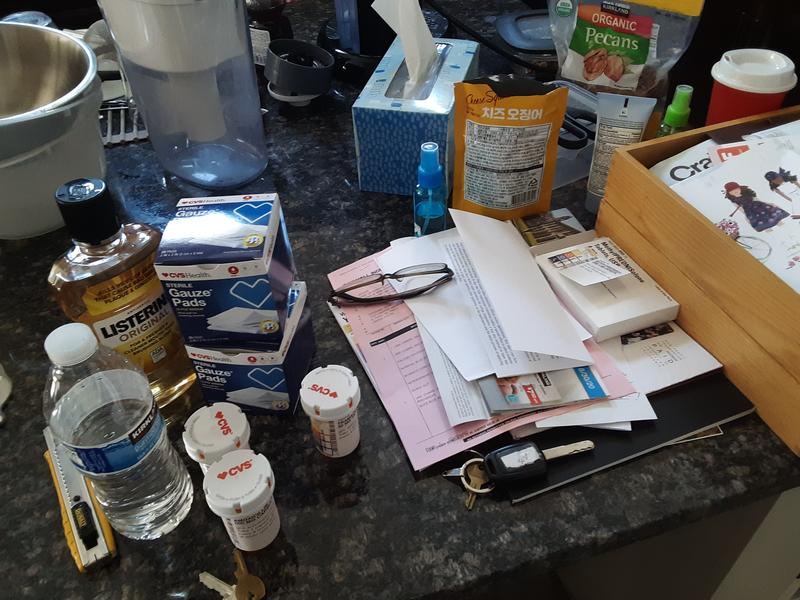glasses: (321, 262, 458, 309)
